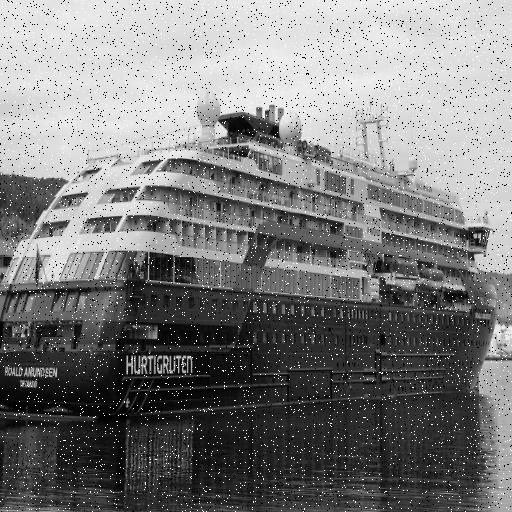cruises: (1, 86, 501, 431)
